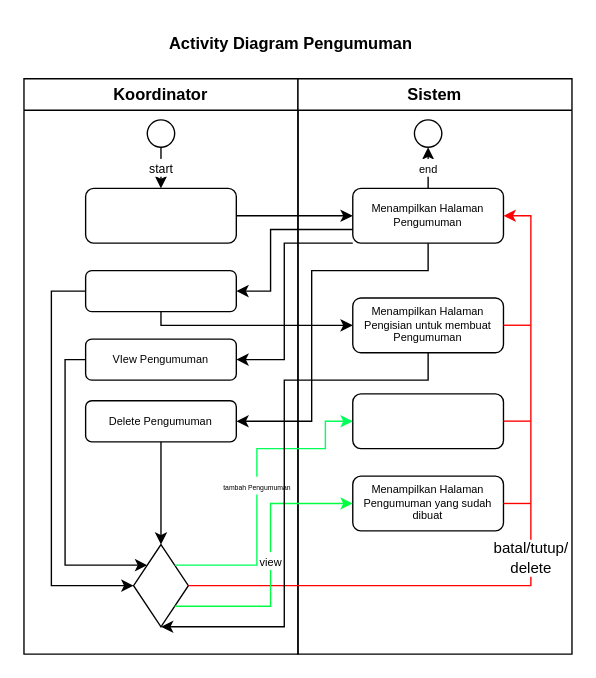
This 596x678 diagram has some shape labels left out. Here are the shapes that lost their labels. From the top down, the box of each, then its label:
(84, 187, 236, 243): Membuka Fitur Pengumuman Pada SIdebar
(84, 269, 236, 312): Menambah Pengumuman
(351, 393, 503, 449): Menampilkan Pop up Berhasil menambah Pengumuman Baru
(132, 543, 188, 627): validasi Button
